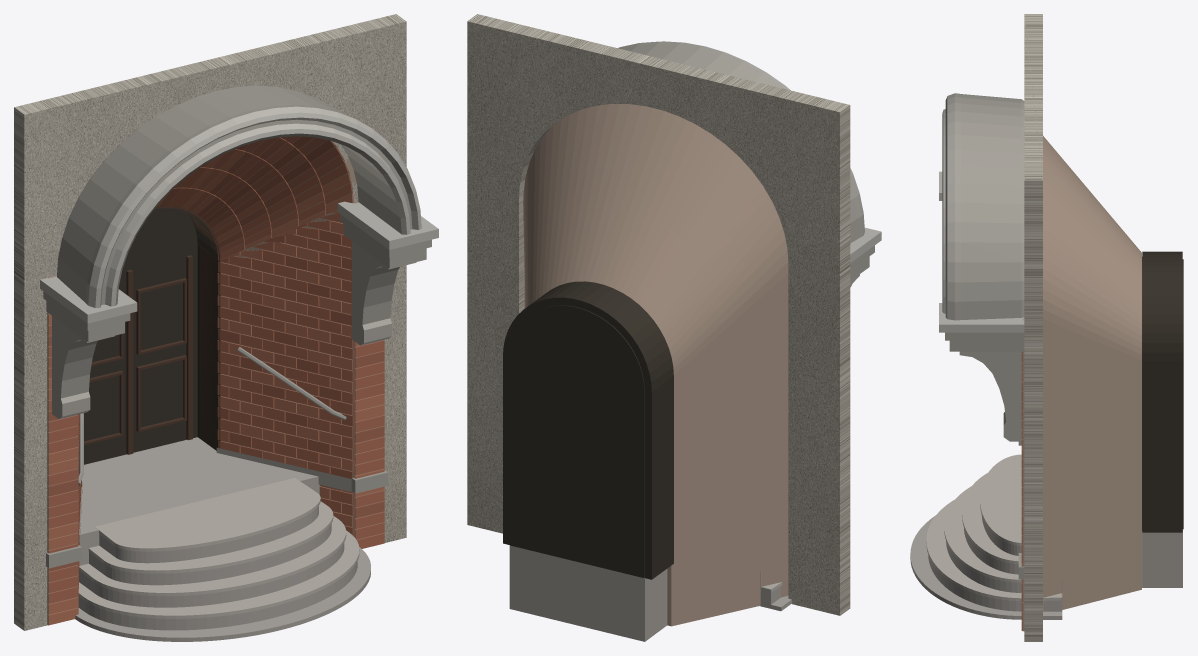
Rendered from changning-customs-commissioner-east-portal-lod.glb.
3 views of the same model, side by side, from view 1: azimuth 30°, elevation 25°; view 2: azimuth 150°, elevation 25°; view 3: azimuth 270°, elevation 25° (orthographic). The views are drawn at different scales.
Visible parts, largest first — view 1: 上海海关税务司住宅东门砖砌喇叭口与石券罩; view 2: 上海海关税务司住宅东门砖砌喇叭口与石券罩; view 3: 上海海关税务司住宅东门砖砌喇叭口与石券罩.
Boxes of the visible parts, <box> form: 上海海关税务司住宅东门砖砌喇叭口与石券罩: <box>14,14,438,641</box>; 上海海关税务司住宅东门砖砌喇叭口与石券罩: <box>467,14,881,641</box>; 上海海关税务司住宅东门砖砌喇叭口与石券罩: <box>910,14,1183,641</box>.
Bounding box in the file's own units: 3.32 × 4.29 × 2.3.
17 materials, 1 textured.
